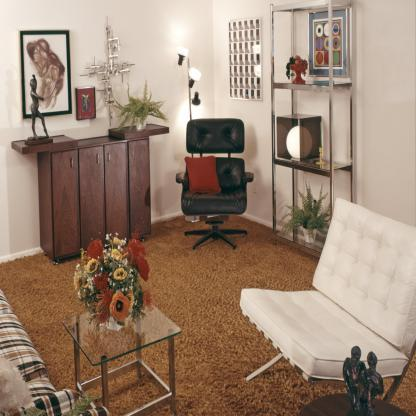chair: (168, 113, 254, 258)
light: (174, 42, 192, 68), (248, 65, 269, 86), (187, 89, 202, 115), (184, 68, 203, 88), (250, 39, 262, 61)
sofa: (233, 204, 416, 416), (0, 247, 73, 416)
table: (9, 117, 166, 261), (70, 288, 192, 416)
